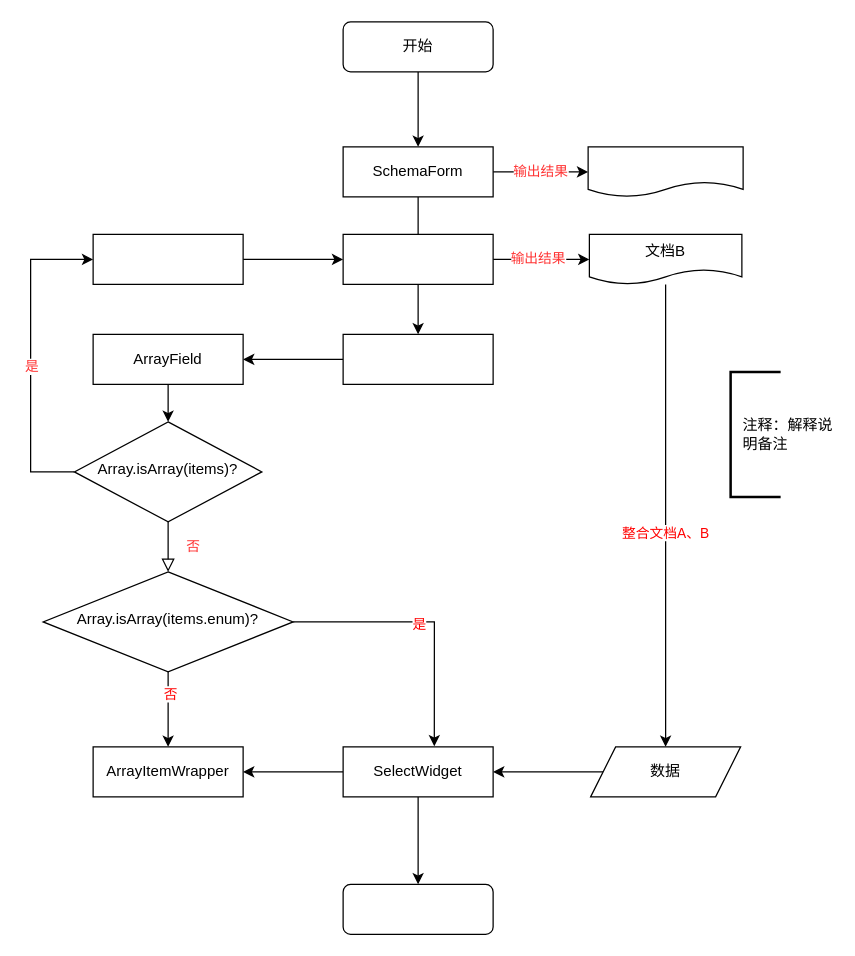
The diagram is 855 pixels wide and 956 high, and some of its shapes have lost their labels. The centre of each missing label's shape, as x and y in pixels:
"fields" goes at (417,358).
"map" goes at (167,258).
"SchemaItem" goes at (417,258).
"文档A" goes at (665,171).
"结束" goes at (417,908).
